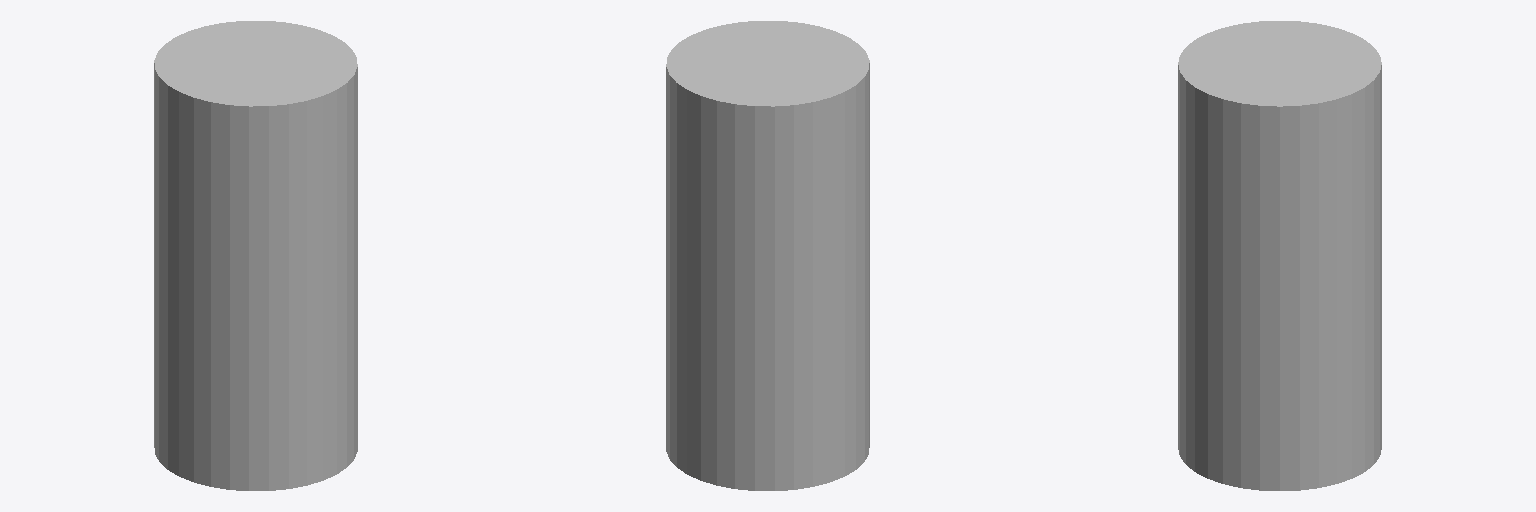
File: ArmCylinder.obj
3 views of the same model, side by side, from view 1: azimuth 30°, elevation 25°; view 2: azimuth 150°, elevation 25°; view 3: azimuth 270°, elevation 25° (orthographic).
Parts seen in each view (by area): view 1: Cylinder; view 2: Cylinder; view 3: Cylinder.
Boxes of the visible parts, <box> form: Cylinder: <box>154,21,357,490</box>; Cylinder: <box>666,21,869,490</box>; Cylinder: <box>1178,21,1381,490</box>.
Bounding box in the file's own units: 12 × 25 × 12.